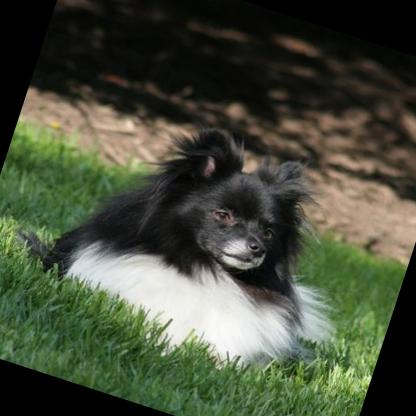Pomeranian: (0, 67, 396, 406)
